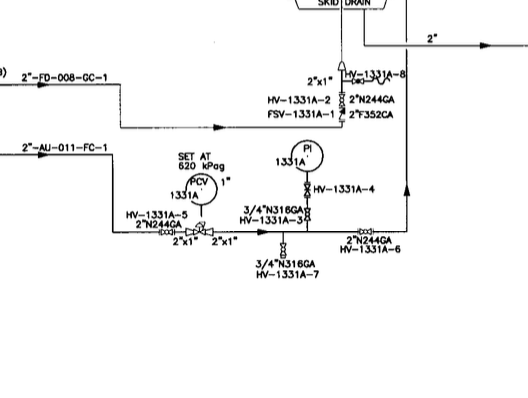Instrument-offset: (273, 137, 327, 176), (168, 171, 218, 208)
